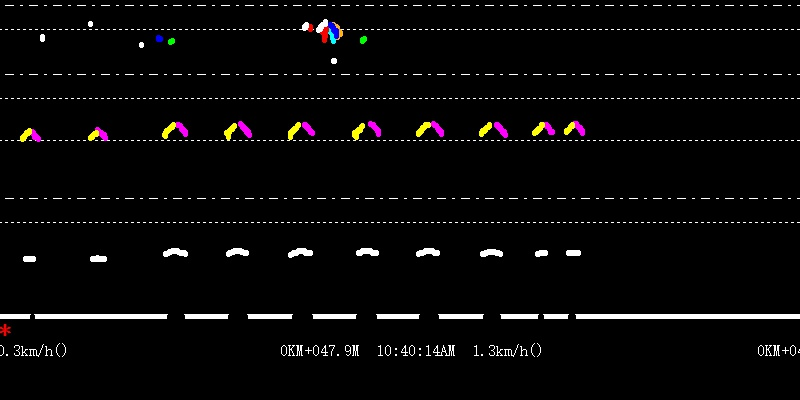face_2: (315, 9, 348, 47)
y_p: (150, 115, 511, 269)
